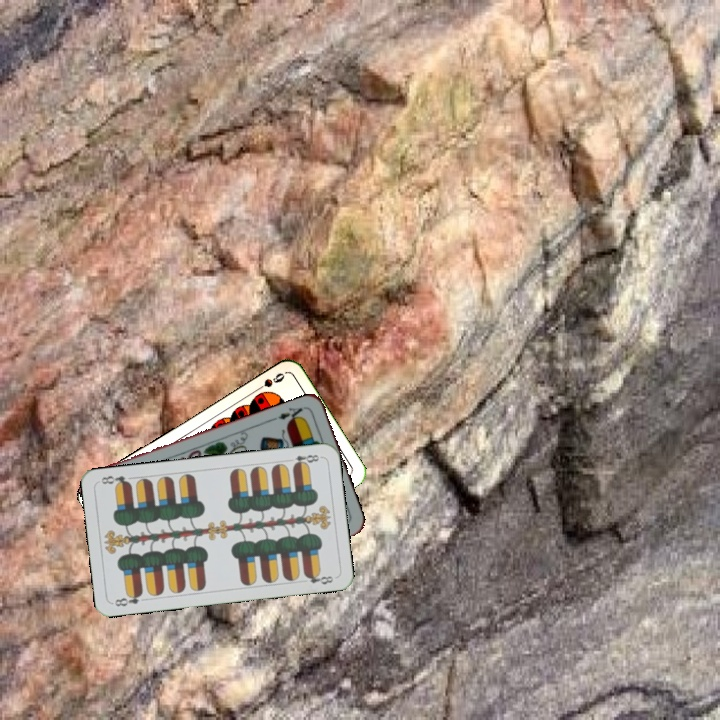E8: (283, 451, 324, 469), (111, 588, 145, 609)
EA: (270, 402, 309, 425)
S9: (250, 368, 287, 395)
